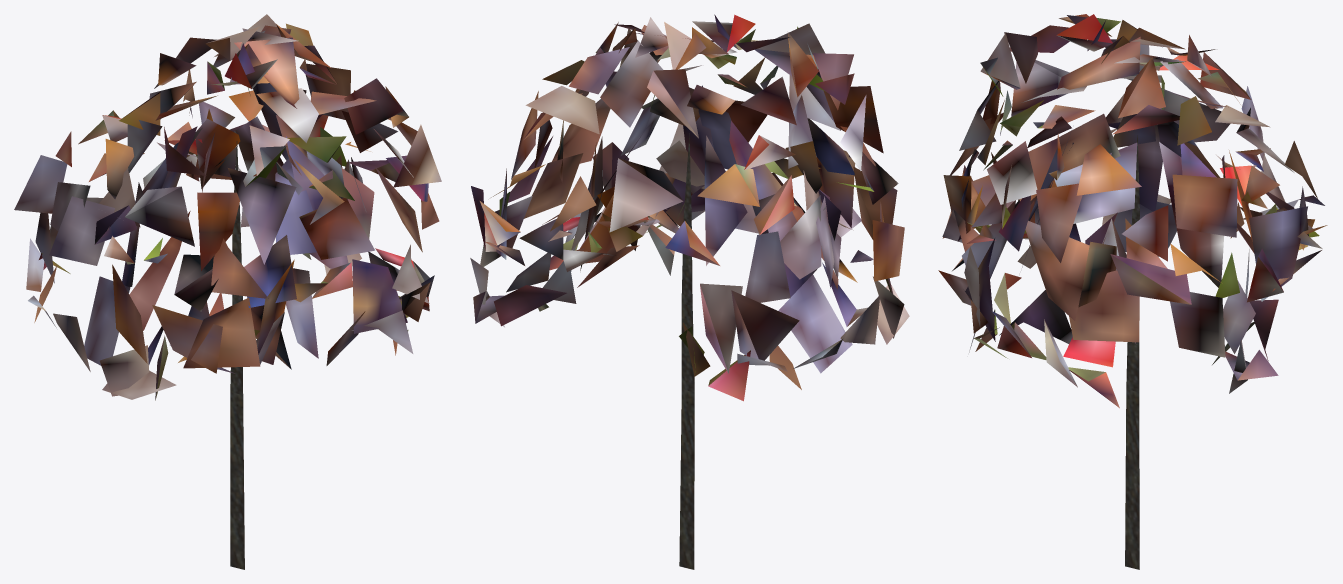
File: Tree09.fbx
The picture shows the model from 3 angles, left to right: view 1: azimuth 30°, elevation 25°; view 2: azimuth 150°, elevation 25°; view 3: azimuth 270°, elevation 25°; orthographic projection.
Visible parts, largest first — view 1: Tree09; view 2: Tree09; view 3: Tree09.
Boxes of the visible parts, bbox=[...] form: Tree09: bbox=[14, 14, 441, 569]; Tree09: bbox=[470, 14, 909, 569]; Tree09: bbox=[938, 14, 1327, 569].
Size of the model in its own units: 900 by 1333 by 870.
